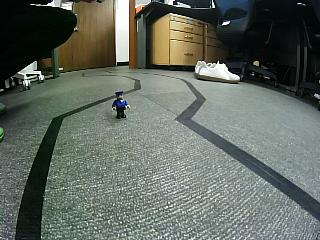person: (112, 90, 132, 119)
